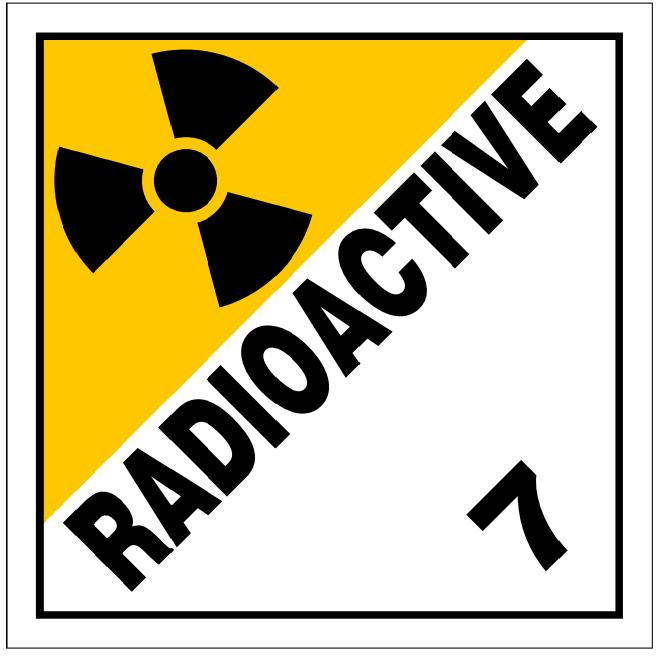radioactive: (1, 1, 658, 656)
